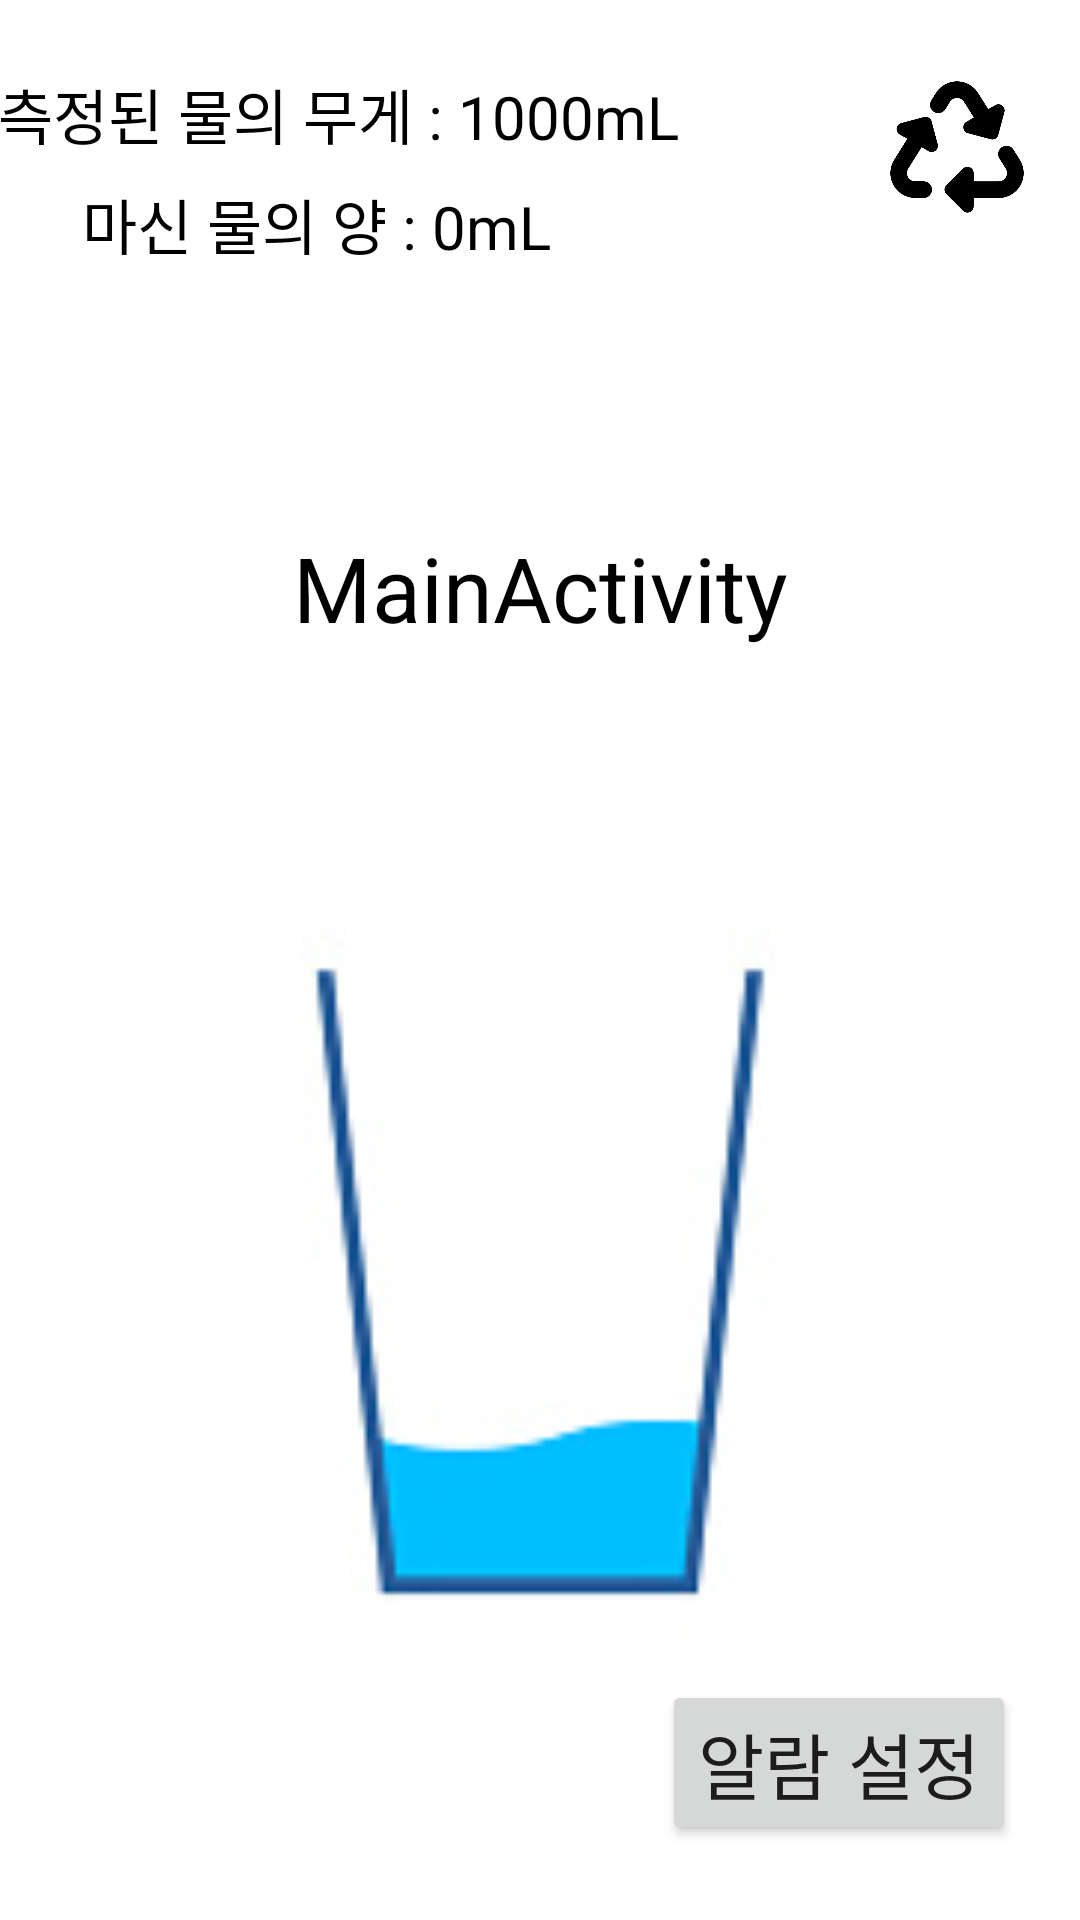

Screen size 1080 x 1920. Icon name, then its box in pixels as rect(x1, y1, x2, y2):
recycle: rect(890, 81, 1024, 213)
